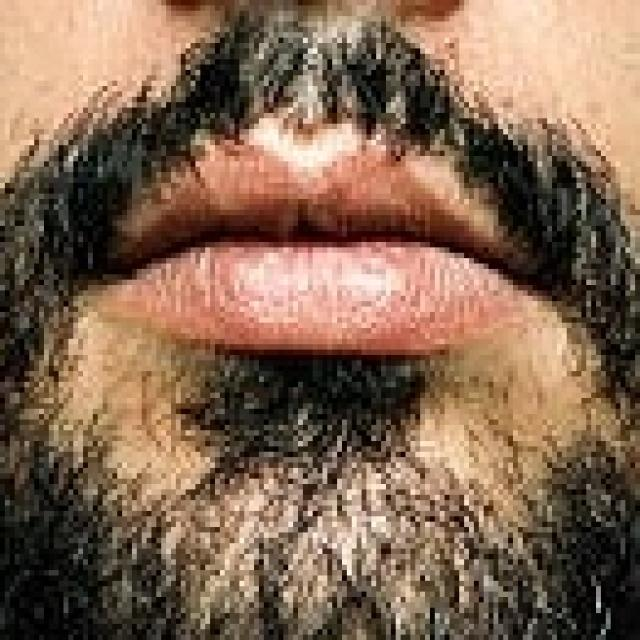closed-mouth: (83, 188, 552, 360)
